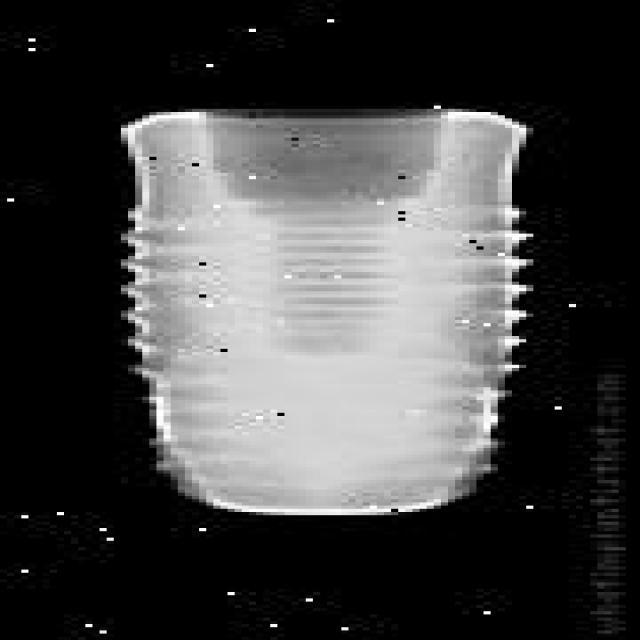Titan Implant Implant: (121, 109, 533, 518)
